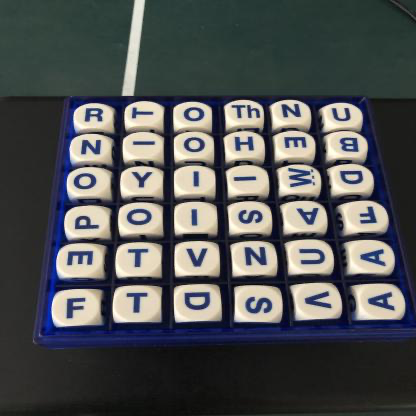a: (360, 286, 406, 319), (350, 242, 397, 274), (286, 201, 326, 230)
b: (328, 131, 368, 155)
d: (176, 286, 222, 320), (333, 165, 374, 192)
e: (56, 244, 103, 276), (277, 131, 315, 157)
f: (53, 290, 99, 326), (345, 202, 389, 230)
h: (227, 132, 266, 158)
i: (228, 166, 269, 193), (176, 203, 217, 230), (124, 133, 165, 158), (174, 167, 216, 191)
n: (235, 243, 276, 274), (70, 135, 114, 160), (273, 100, 313, 124)
o: (121, 204, 163, 232), (68, 168, 110, 195), (175, 133, 216, 158), (175, 102, 212, 126)
p: (66, 206, 110, 238)
r: (73, 103, 114, 130)
s: (236, 287, 282, 322), (231, 202, 272, 230)
t: (115, 287, 160, 322), (117, 244, 162, 276), (124, 101, 165, 128)
th: (227, 100, 266, 126)
u: (289, 241, 335, 273), (322, 103, 365, 126)
v: (293, 287, 342, 319), (177, 242, 221, 273)
w: (281, 166, 321, 192)
y: (121, 167, 165, 195)
